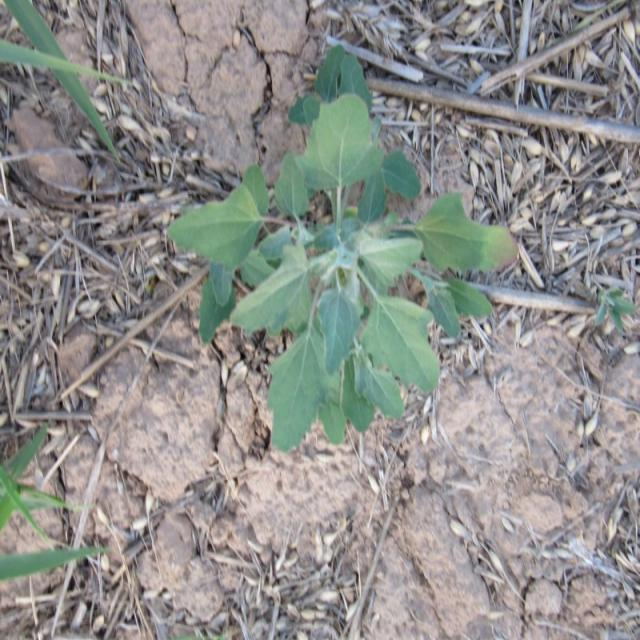ca: (172, 90, 520, 449)
